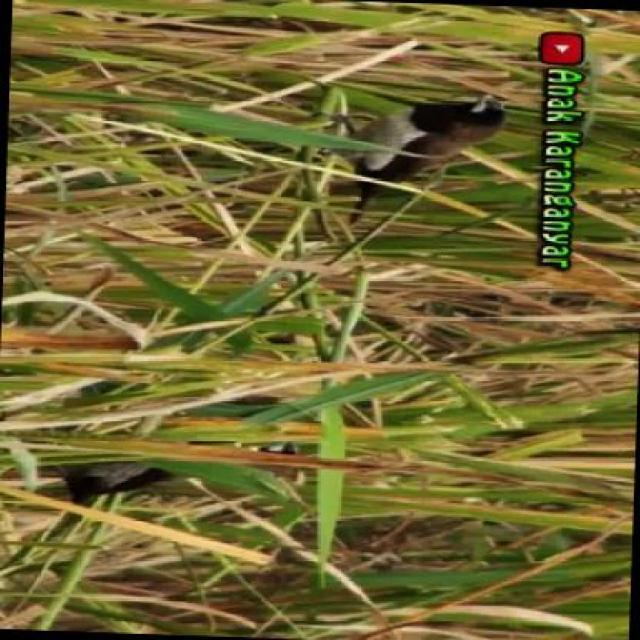Bird: (337, 76, 508, 224)
